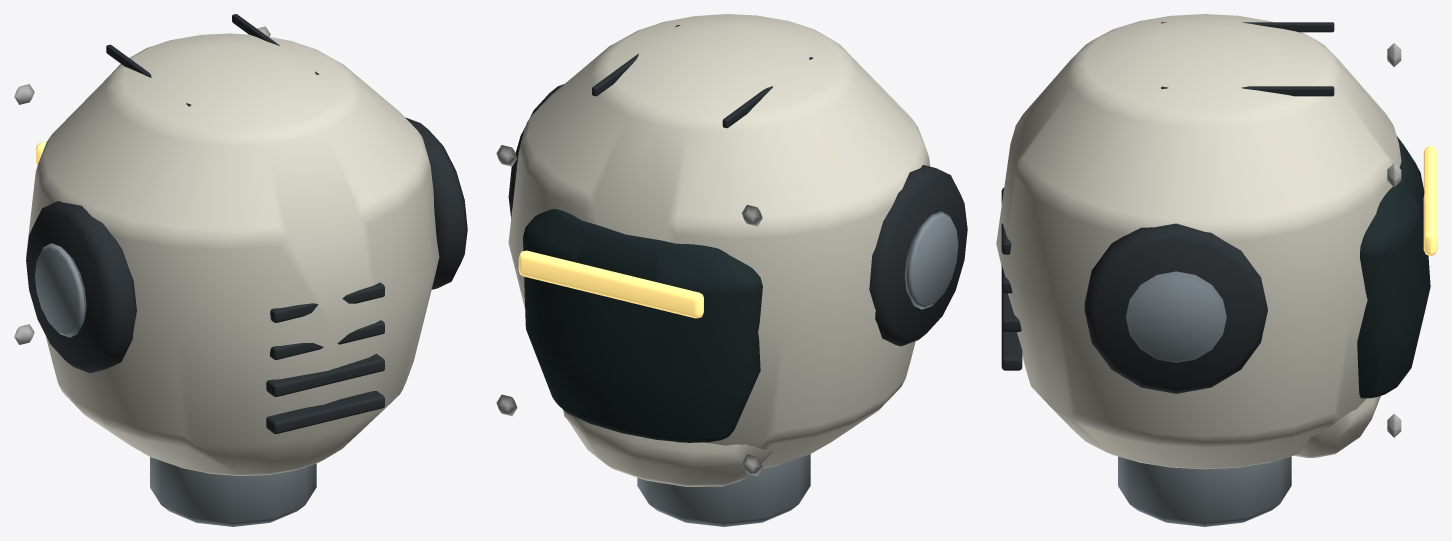
Rendered from heads_05.glb.
3 renders of one model, left to right at view 1: azimuth 30°, elevation 25°; view 2: azimuth 150°, elevation 25°; view 3: azimuth 270°, elevation 25°, orthographic. The views are drawn at different scales.
Parts seen in each view (by area): view 1: heads_05_Geometry; view 2: heads_05_Geometry; view 3: heads_05_Geometry.
Boxes of the visible parts, box(x1,y1,x2,y2) form: heads_05_Geometry: box(14, 14, 467, 526); heads_05_Geometry: box(496, 14, 967, 526); heads_05_Geometry: box(996, 14, 1437, 526).
Size of the model in its own units: 0.29 by 0.315 by 0.2795.
